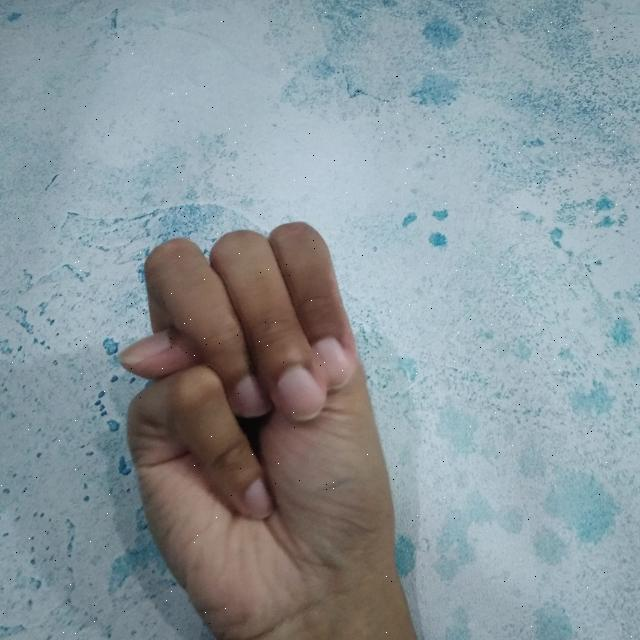M: (113, 216, 418, 640)
